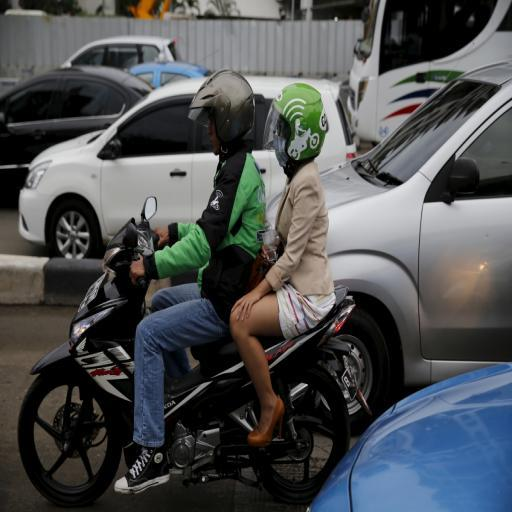helmet: (169, 18, 272, 208)
